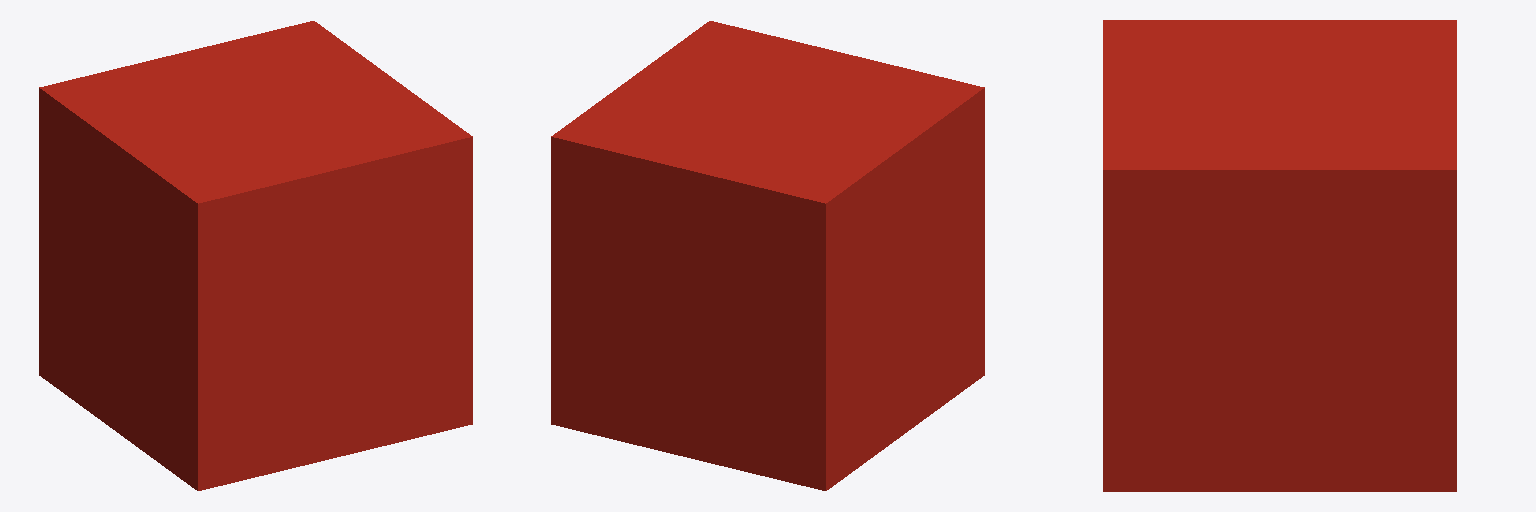
robot.urdf — cube:
<robot name="cube">
  <link name="cube_link">
    <inertial>
      <origin xyz="0 0 0" />
      <mass value="0.411" />
      <inertia  ixx="1.0" ixy="0.0"  ixz="0.0"  iyy="1.0"  iyz="0.0"  izz="1.0" />
    </inertial>
    <visual>
      <origin xyz="0 0 0" rpy="0 0 0" />
      <geometry>
        <mesh filename="package://parkingdemo_description/meshes/cube.dae" />
      </geometry>
    </visual>
    <collision>
      <origin xyz="0 0 0" rpy="0 0 0" />
      <geometry>
        <mesh filename="package://parkingdemo_description/meshes/cube.dae" />
      </geometry>
    </collision>
  </link>   
  <gazebo reference="cube">
    <material>Gazebo/Red</material>
    <static>true</static>
  </gazebo>
</robot>

--- Facts derived from the render (not from the file) ---
The picture shows the robot from 3 angles, left to right: view 1: azimuth 30°, elevation 25°; view 2: azimuth 150°, elevation 25°; view 3: azimuth 270°, elevation 25°; orthographic projection.
Robot: cube — 1 links, 0 joints (none); root link cube_link; default pose: every joint at zero.
Links seen in each view (by area): view 1: cube_link; view 2: cube_link; view 3: cube_link.
Boxes of the visible links, x1,y1,x2,y2 form: cube_link: [39, 21, 472, 490]; cube_link: [551, 21, 984, 490]; cube_link: [1103, 20, 1456, 491].
Bounding box of the posed robot: 50 × 50 × 50 m (x, y, z).
Meshes: 1 distinct files referenced, 1 mesh visuals loaded (1 Collada DAE).